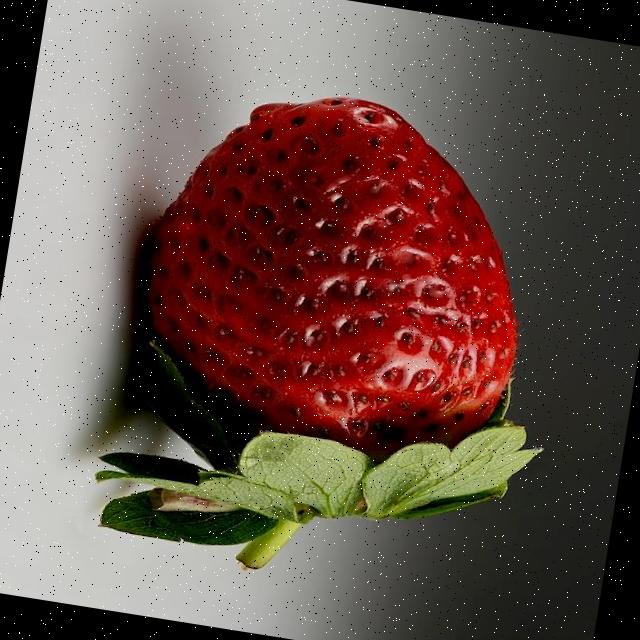strawberry: (97, 98, 538, 569)
